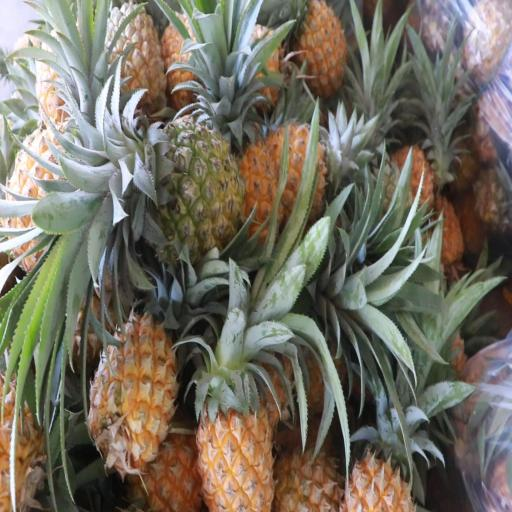Pineapple - v8 v1: (4, 126, 122, 282), (91, 310, 177, 484), (196, 327, 277, 511), (101, 7, 168, 112), (284, 0, 352, 103)
